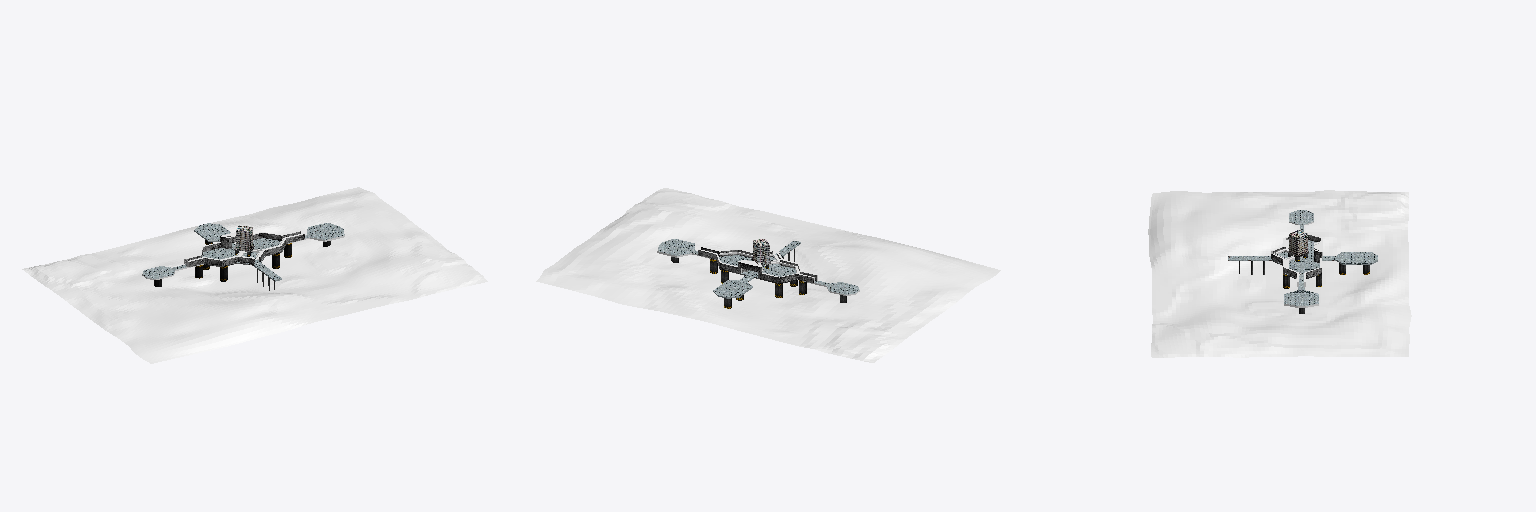
The picture shows the model from 3 angles: view 1: azimuth 30°, elevation 25°; view 2: azimuth 150°, elevation 25°; view 3: azimuth 270°, elevation 25°; orthographic projection.
Visible parts, largest first — view 1: polySurface42 SnowTerrain1:Mesh, group1 polySurface19, pCube31, pCube30, pCube32; view 2: polySurface42 SnowTerrain1:Mesh, pCube31, group1 polySurface19, pCube30; view 3: polySurface42 SnowTerrain1:Mesh, pCube31, pCube30.
Part boxes in pixels (x1,y1,x2,y2): polySurface42 SnowTerrain1:Mesh: (22, 187, 487, 363); group1 polySurface19: (184, 232, 304, 266); pCube31: (142, 223, 344, 279); pCube30: (194, 223, 281, 281); pCube32: (202, 238, 285, 266); polySurface42 SnowTerrain1:Mesh: (536, 188, 1000, 362); pCube31: (657, 239, 859, 295); group1 polySurface19: (701, 246, 817, 282); pCube30: (713, 241, 800, 298); polySurface42 SnowTerrain1:Mesh: (1148, 190, 1411, 357); pCube31: (1284, 210, 1318, 307); pCube30: (1228, 252, 1377, 264).
Bounding box in the file's own units: 96.15 × 11.25 × 63.96.
Materials: 7 (4 with a texture image).